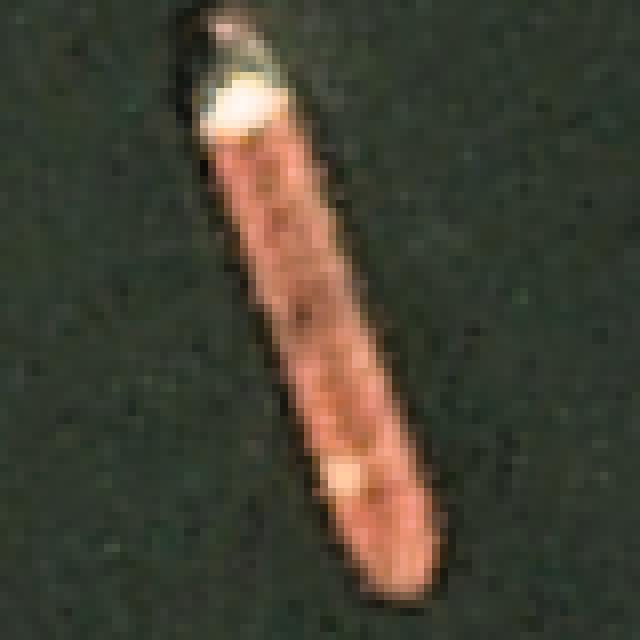ship: (152, 0, 496, 616)
